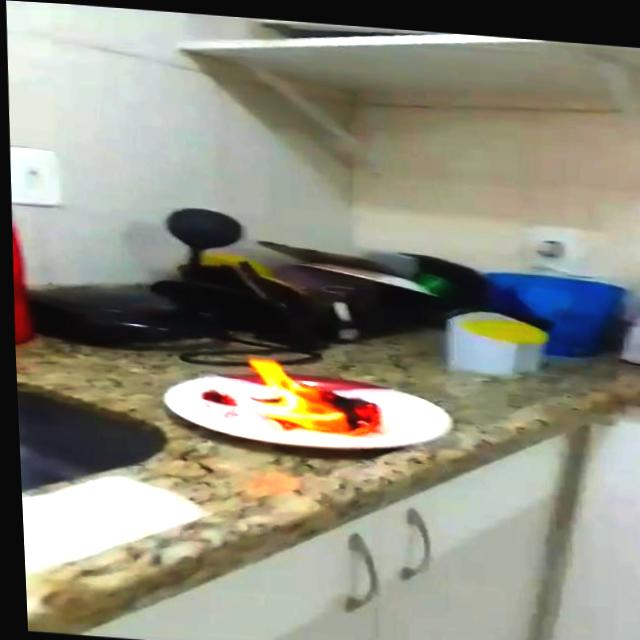helmet: (238, 354, 380, 438)
